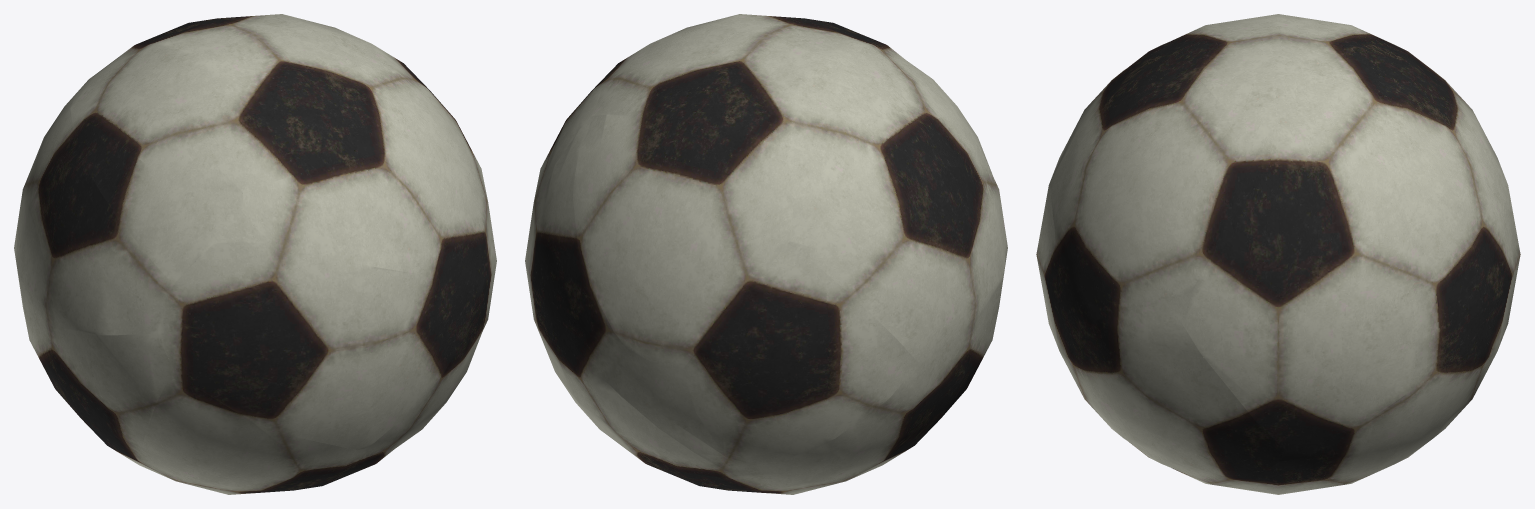
The model's file is 5Break.fbx.
3 views of the same model, side by side, from view 1: azimuth 30°, elevation 25°; view 2: azimuth 150°, elevation 25°; view 3: azimuth 270°, elevation 25° (orthographic).
Parts seen in each view (by area): view 1: 5.Break.001, 5.Break.010, 5.Break.015, 5.Break.012, 5.Break.011, 5.Break.004, 5.Break.014, 5.Break.009, 5.Break; view 2: 5.Break.006, 5.Break.003, 5.Break.012, 5.Break.015, 5.Break.004, 5.Break.014, 5.Break.007, 5.Break.016, 5.Break.002, 5.Break.008; view 3: 5.Break.008, 5.Break.010, 5.Break.004, 5.Break.009, 5.Break.007, 5.Break.006, 5.Break.016, 5.Break.001, 5.Break.005, 5.Break.013, 5.Break.015.
Part boxes in pixels (left/top/right/bottom): 5.Break.001: left=159, top=242, right=483, bottom=449; 5.Break.010: left=237, top=60, right=492, bottom=279; 5.Break.015: left=70, top=42, right=274, bottom=283; 5.Break.012: left=16, top=90, right=172, bottom=335; 5.Break.011: left=140, top=370, right=366, bottom=494; 5.Break.004: left=134, top=14, right=399, bottom=124; 5.Break.014: left=24, top=307, right=172, bottom=468; 5.Break.009: left=363, top=243, right=496, bottom=468; 5.Break: left=214, top=205, right=271, bottom=243; 5.Break.006: left=573, top=114, right=794, bottom=369; 5.Break.003: left=683, top=243, right=918, bottom=466; 5.Break.012: left=789, top=167, right=1006, bottom=363; 5.Break.015: left=755, top=38, right=991, bottom=198; 5.Break.004: left=592, top=14, right=864, bottom=149; 5.Break.014: left=734, top=238, right=1007, bottom=494; 5.Break.007: left=527, top=116, right=626, bottom=379; 5.Break.016: left=533, top=315, right=753, bottom=491; 5.Break.002: left=605, top=348, right=739, bottom=474; 5.Break.008: left=525, top=59, right=625, bottom=315; 5.Break.008: left=1180, top=160, right=1423, bottom=453; 5.Break.010: left=1050, top=52, right=1267, bottom=309; 5.Break.004: left=1160, top=18, right=1419, bottom=163; 5.Break.009: left=1069, top=319, right=1286, bottom=486; 5.Break.007: left=1387, top=163, right=1514, bottom=380; 5.Break.006: left=1388, top=58, right=1520, bottom=276; 5.Break.016: left=1310, top=336, right=1502, bottom=488; 5.Break.001: left=1036, top=134, right=1098, bottom=369; 5.Break.005: left=1190, top=451, right=1318, bottom=494; 5.Break.013: left=1091, top=290, right=1191, bottom=320; 5.Break.015: left=1147, top=14, right=1402, bottom=52.
Size of the model in its own units: 100 by 100 by 100.
Materials: 1 (1 with a texture image).
